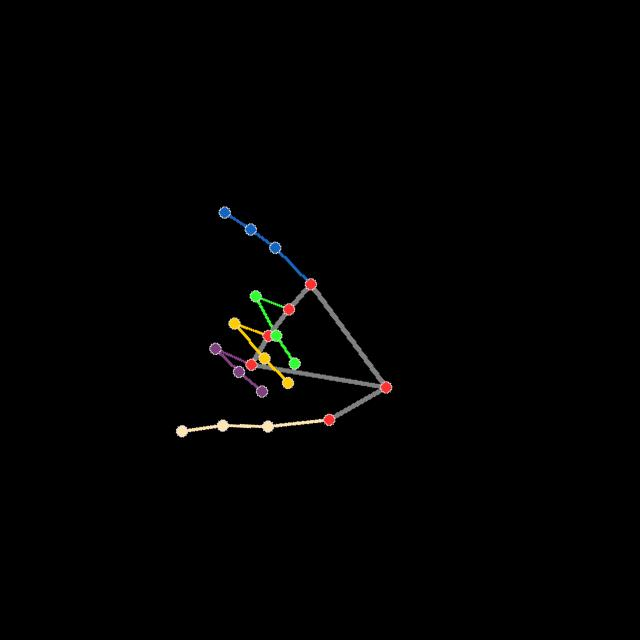skr: (176, 204, 397, 436)
